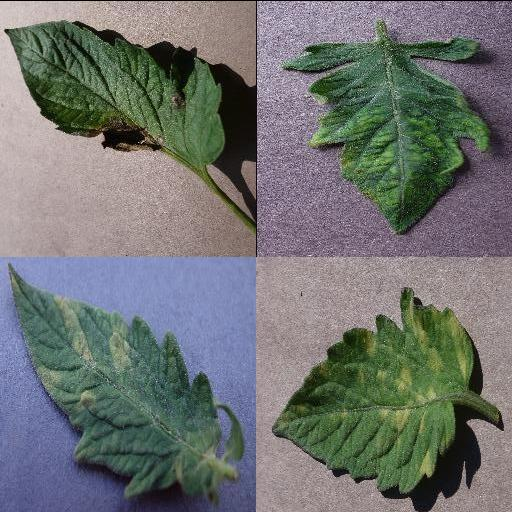Late Blight: (4, 17, 224, 167)
Leaf Mold: (7, 263, 221, 497), (272, 287, 474, 493)
Mosaic Virus: (279, 33, 491, 239)
